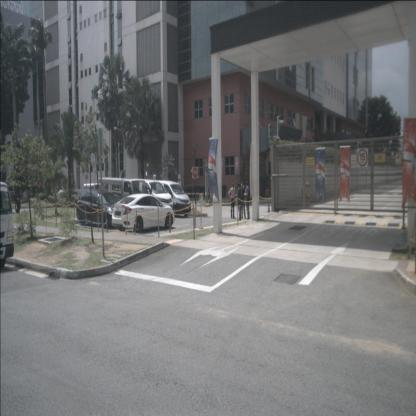human-pedestrian-adult: (228, 184, 236, 218), (240, 183, 247, 219), (244, 180, 250, 221), (237, 182, 243, 220)
vehicle-car: (112, 193, 174, 234), (76, 189, 124, 229), (125, 179, 173, 219), (143, 180, 191, 218)
vehicle-truck: (98, 177, 148, 221), (0, 182, 15, 268), (83, 183, 105, 199)
